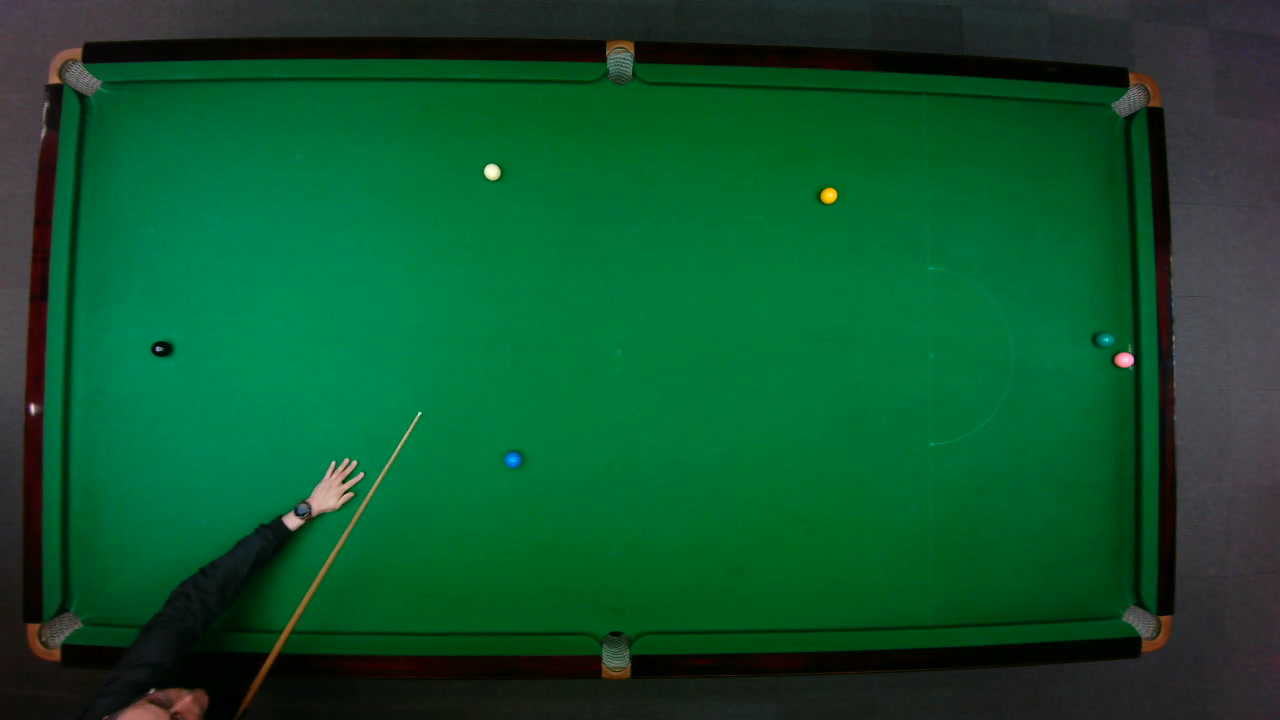bag: (25, 609, 84, 661), (45, 46, 102, 96), (1119, 603, 1171, 652), (1108, 71, 1161, 118), (600, 629, 630, 680), (605, 38, 633, 85)
black: (149, 339, 171, 357)
blue: (503, 450, 522, 468)
cue: (231, 406, 424, 718)
green: (1093, 330, 1114, 347)
pink: (1112, 350, 1135, 368)
white: (482, 161, 501, 181)
yellow: (818, 185, 838, 204)
zone: (927, 265, 1013, 445)
